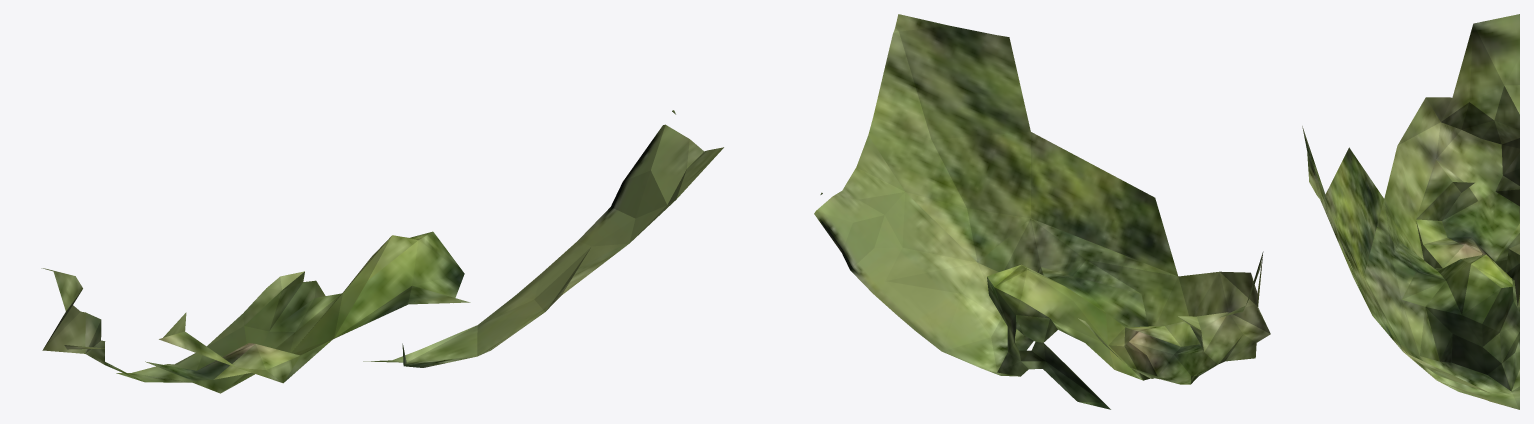
3 renders of one model, left to right at view 1: azimuth 30°, elevation 25°; view 2: azimuth 150°, elevation 25°; view 3: azimuth 270°, elevation 25°, orthographic. The views are drawn at different scales.
Size of the model in its own units: 65.59 by 36.76 by 22.49.
1 material, 1 textured.
